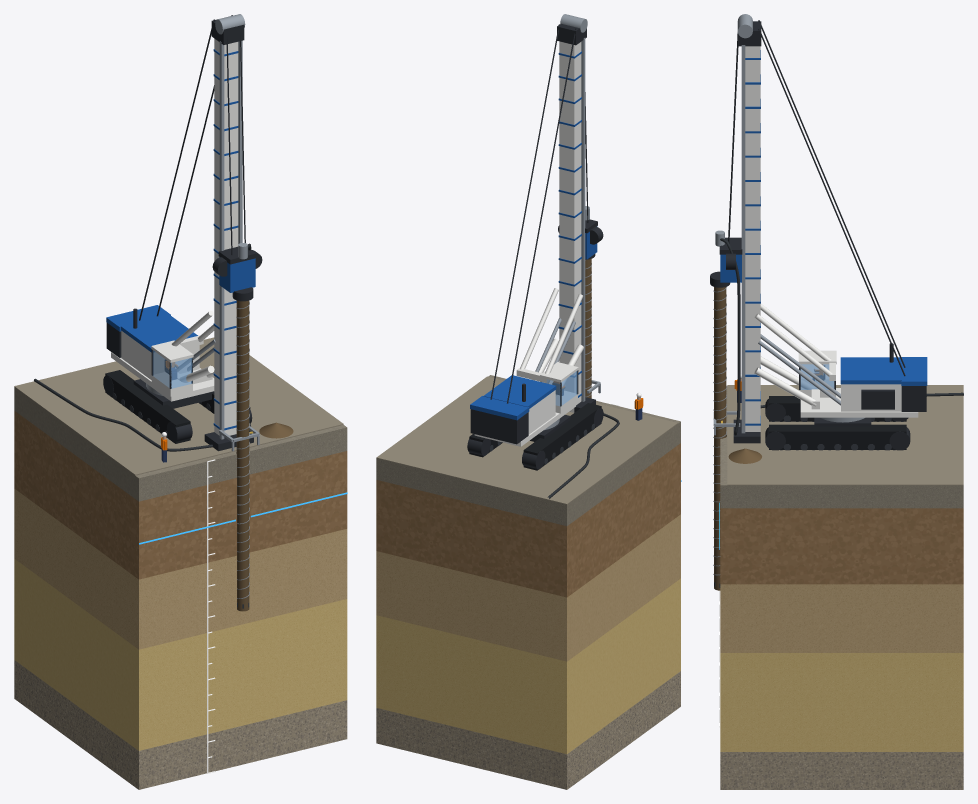
Rendered from cfa-makett.glb.
3 renders of one model, left to right at view 1: azimuth 30°, elevation 25°; view 2: azimuth 150°, elevation 25°; view 3: azimuth 270°, elevation 25°, orthographic. The views are drawn at different scales.
Parts seen in each view (by area): view 1: Homok, Agyag (furat), CFA_furogep, Iszapos homok (furat), Munkaszint, Kavics, Feltöltés (furat), Iszapos homok, Talaj_a_meneteken, object 15, Melysegi_vonalzo, Furocsiga (+1 smaller); view 2: Homok, Agyag (furat), CFA_furogep, Iszapos homok (furat), Munkaszint, Kavics, Feltöltés (furat), Iszapos homok, Talaj_a_meneteken; view 3: CFA_furogep, Homok, Agyag (furat), Iszapos homok (furat), Munkaszint, Kavics, Feltöltés (furat), Iszapos homok, Talaj_a_meneteken, Betontomlo, Furocsiga.
Boxes of the visible parts, x1,y1,x2,y2 form: Homok: (14,559,347,750); Agyag (furat): (14,411,347,579); CFA_furogep: (103,14,253,451); Iszapos homok (furat): (14,489,347,633); Munkaszint: (14,337,343,475); Kavics: (14,660,347,789); Feltöltés (furat): (14,387,347,501); Iszapos homok: (14,543,347,649); Talaj_a_meneteken: (236,300,249,611); object 15: (219,257,255,292); Melysegi_vonalzo: (207,459,215,773); Furocsiga: (236,301,249,608); Homok: (376,578,680,754); Agyag (furat): (376,443,680,597); CFA_furogep: (467,14,603,470); Iszapos homok (furat): (376,514,680,647); Munkaszint: (376,376,677,504); Kavics: (376,671,680,789); Feltöltés (furat): (376,375,680,525); Iszapos homok: (376,564,680,661); Talaj_a_meneteken: (585,259,591,398); CFA_furogep: (728,14,927,450); Homok: (720,653,963,751); Agyag (furat): (720,508,963,584); Iszapos homok (furat): (720,584,963,637); Munkaszint: (727,385,963,485); Kavics: (720,752,963,789); Feltöltés (furat): (720,386,963,508); Iszapos homok: (720,637,963,652); Talaj_a_meneteken: (714,287,726,590); Betontomlo: (720,238,963,435); Furocsiga: (713,286,726,587).
Bounding box in the file's own units: 0.2333 × 0.7896 × 0.2518.
30 materials, 6 textured.
